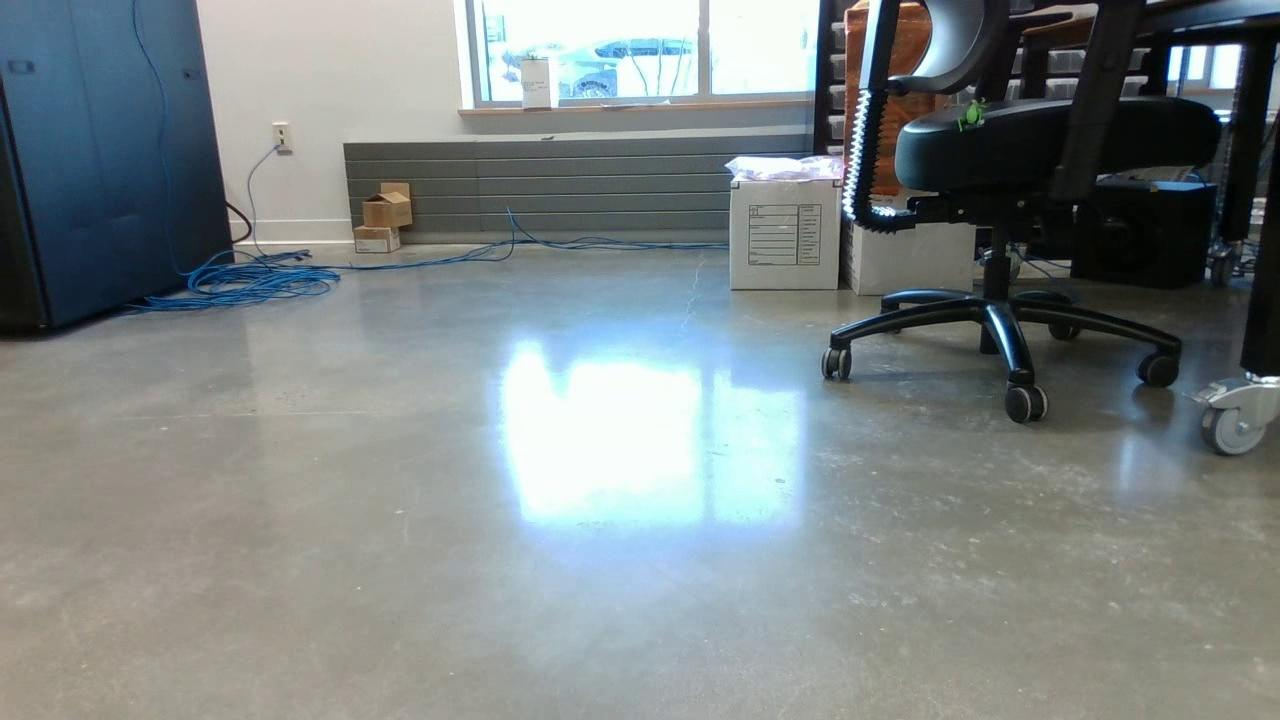grasshopper: (956, 97, 991, 137)
